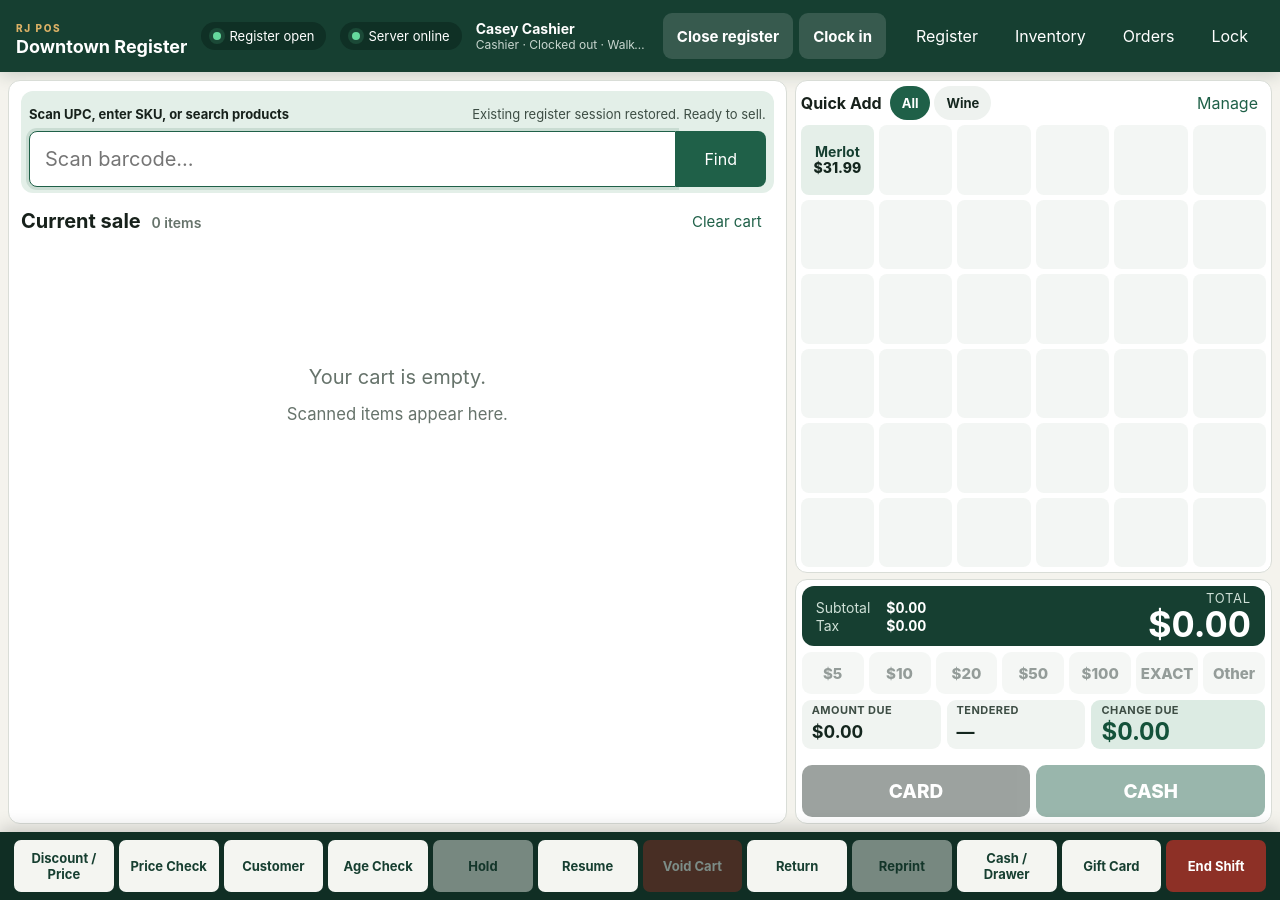
Test: Cash tender, change due, Quick Add grid, and age check › EXACT sets tendered equal to the total; insufficient cash shows what is still due and blocks CASH
The image size is (1280, 900).
Click the button "Merlot $31.99" at (837, 160), box x1=801 y1=125 x2=874 y2=194
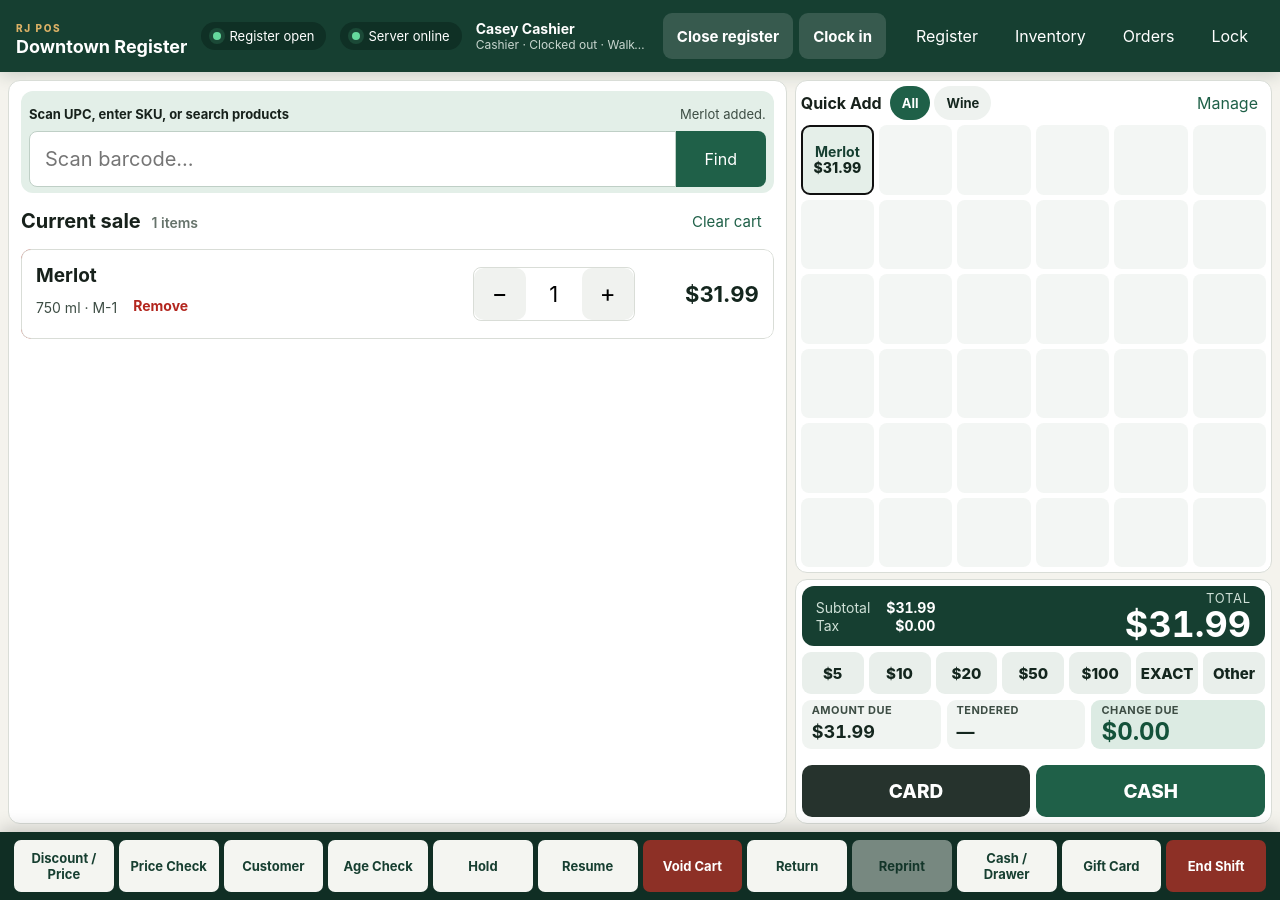
Now the field named "Quantity" is shown, box x1=526 y1=268 x2=582 y2=320
Click the button "$20" at (966, 673), box x1=936 y1=652 x2=997 y2=694
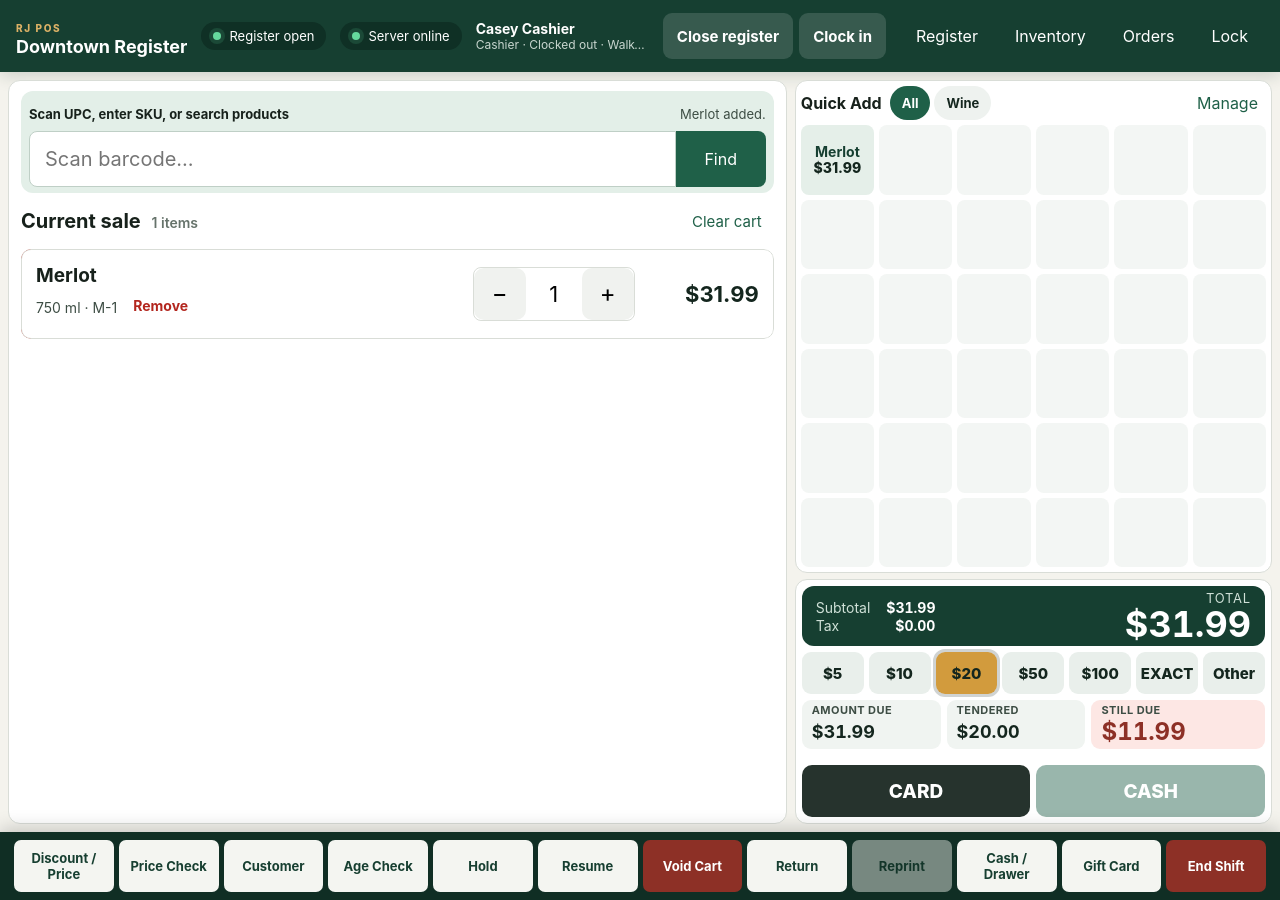
Now the text "$11.99" is shown, box x1=1101 y1=717 x2=1186 y2=746
Now the button "CASH" is disabled, box x1=1036 y1=765 x2=1265 y2=817
Click the button "EXACT" at (1167, 673), box x1=1136 y1=652 x2=1198 y2=694
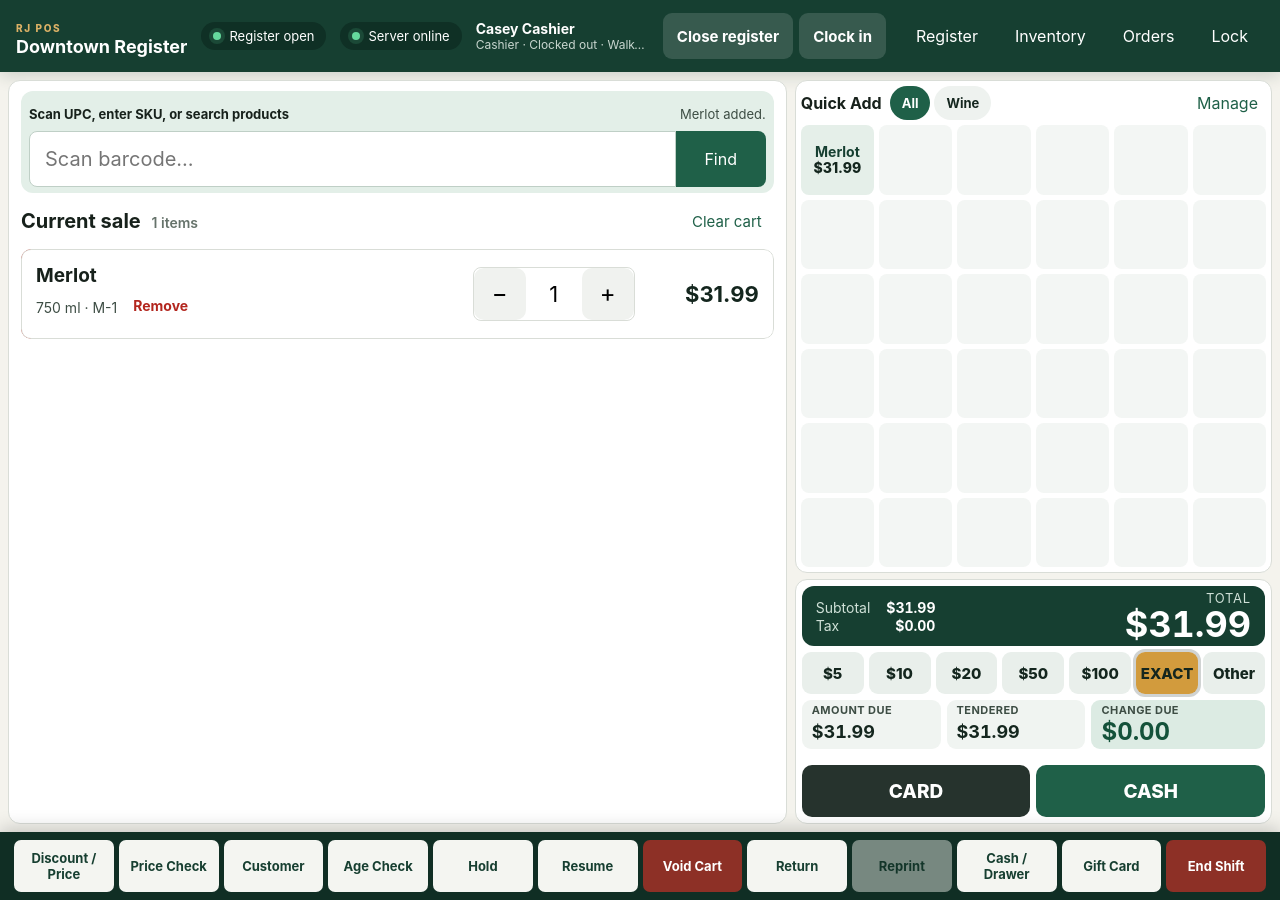
Now the text "$31.99" below "Tendered" is shown, box x1=957 y1=721 x2=1020 y2=742
Now the text "$0.00" below "Change due" is shown, box x1=1101 y1=717 x2=1170 y2=746
Click the button "CASH" at (1151, 791), box x1=1036 y1=765 x2=1265 y2=817
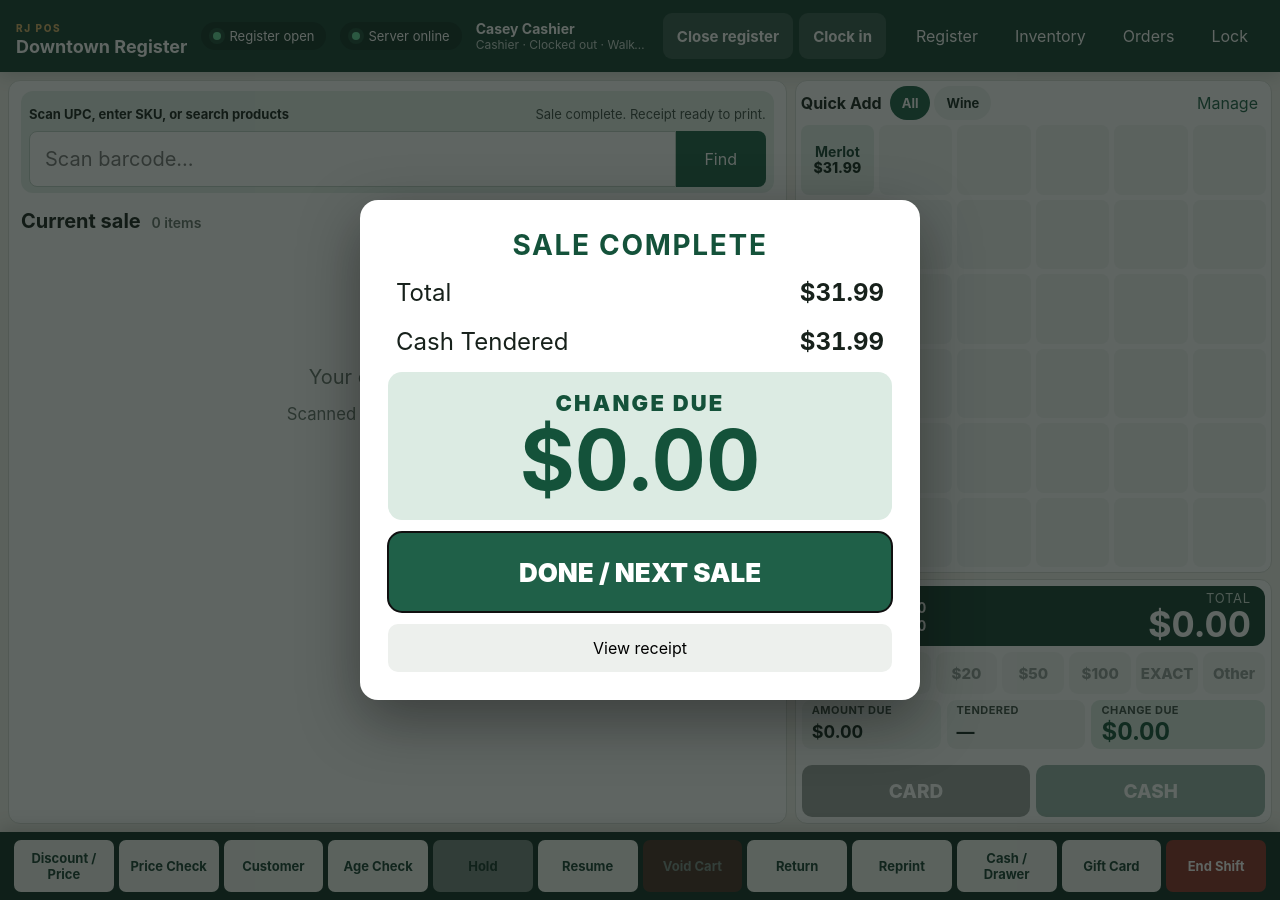
Now the text named "Change due" reads "$0.00", box x1=520 y1=409 x2=760 y2=510
